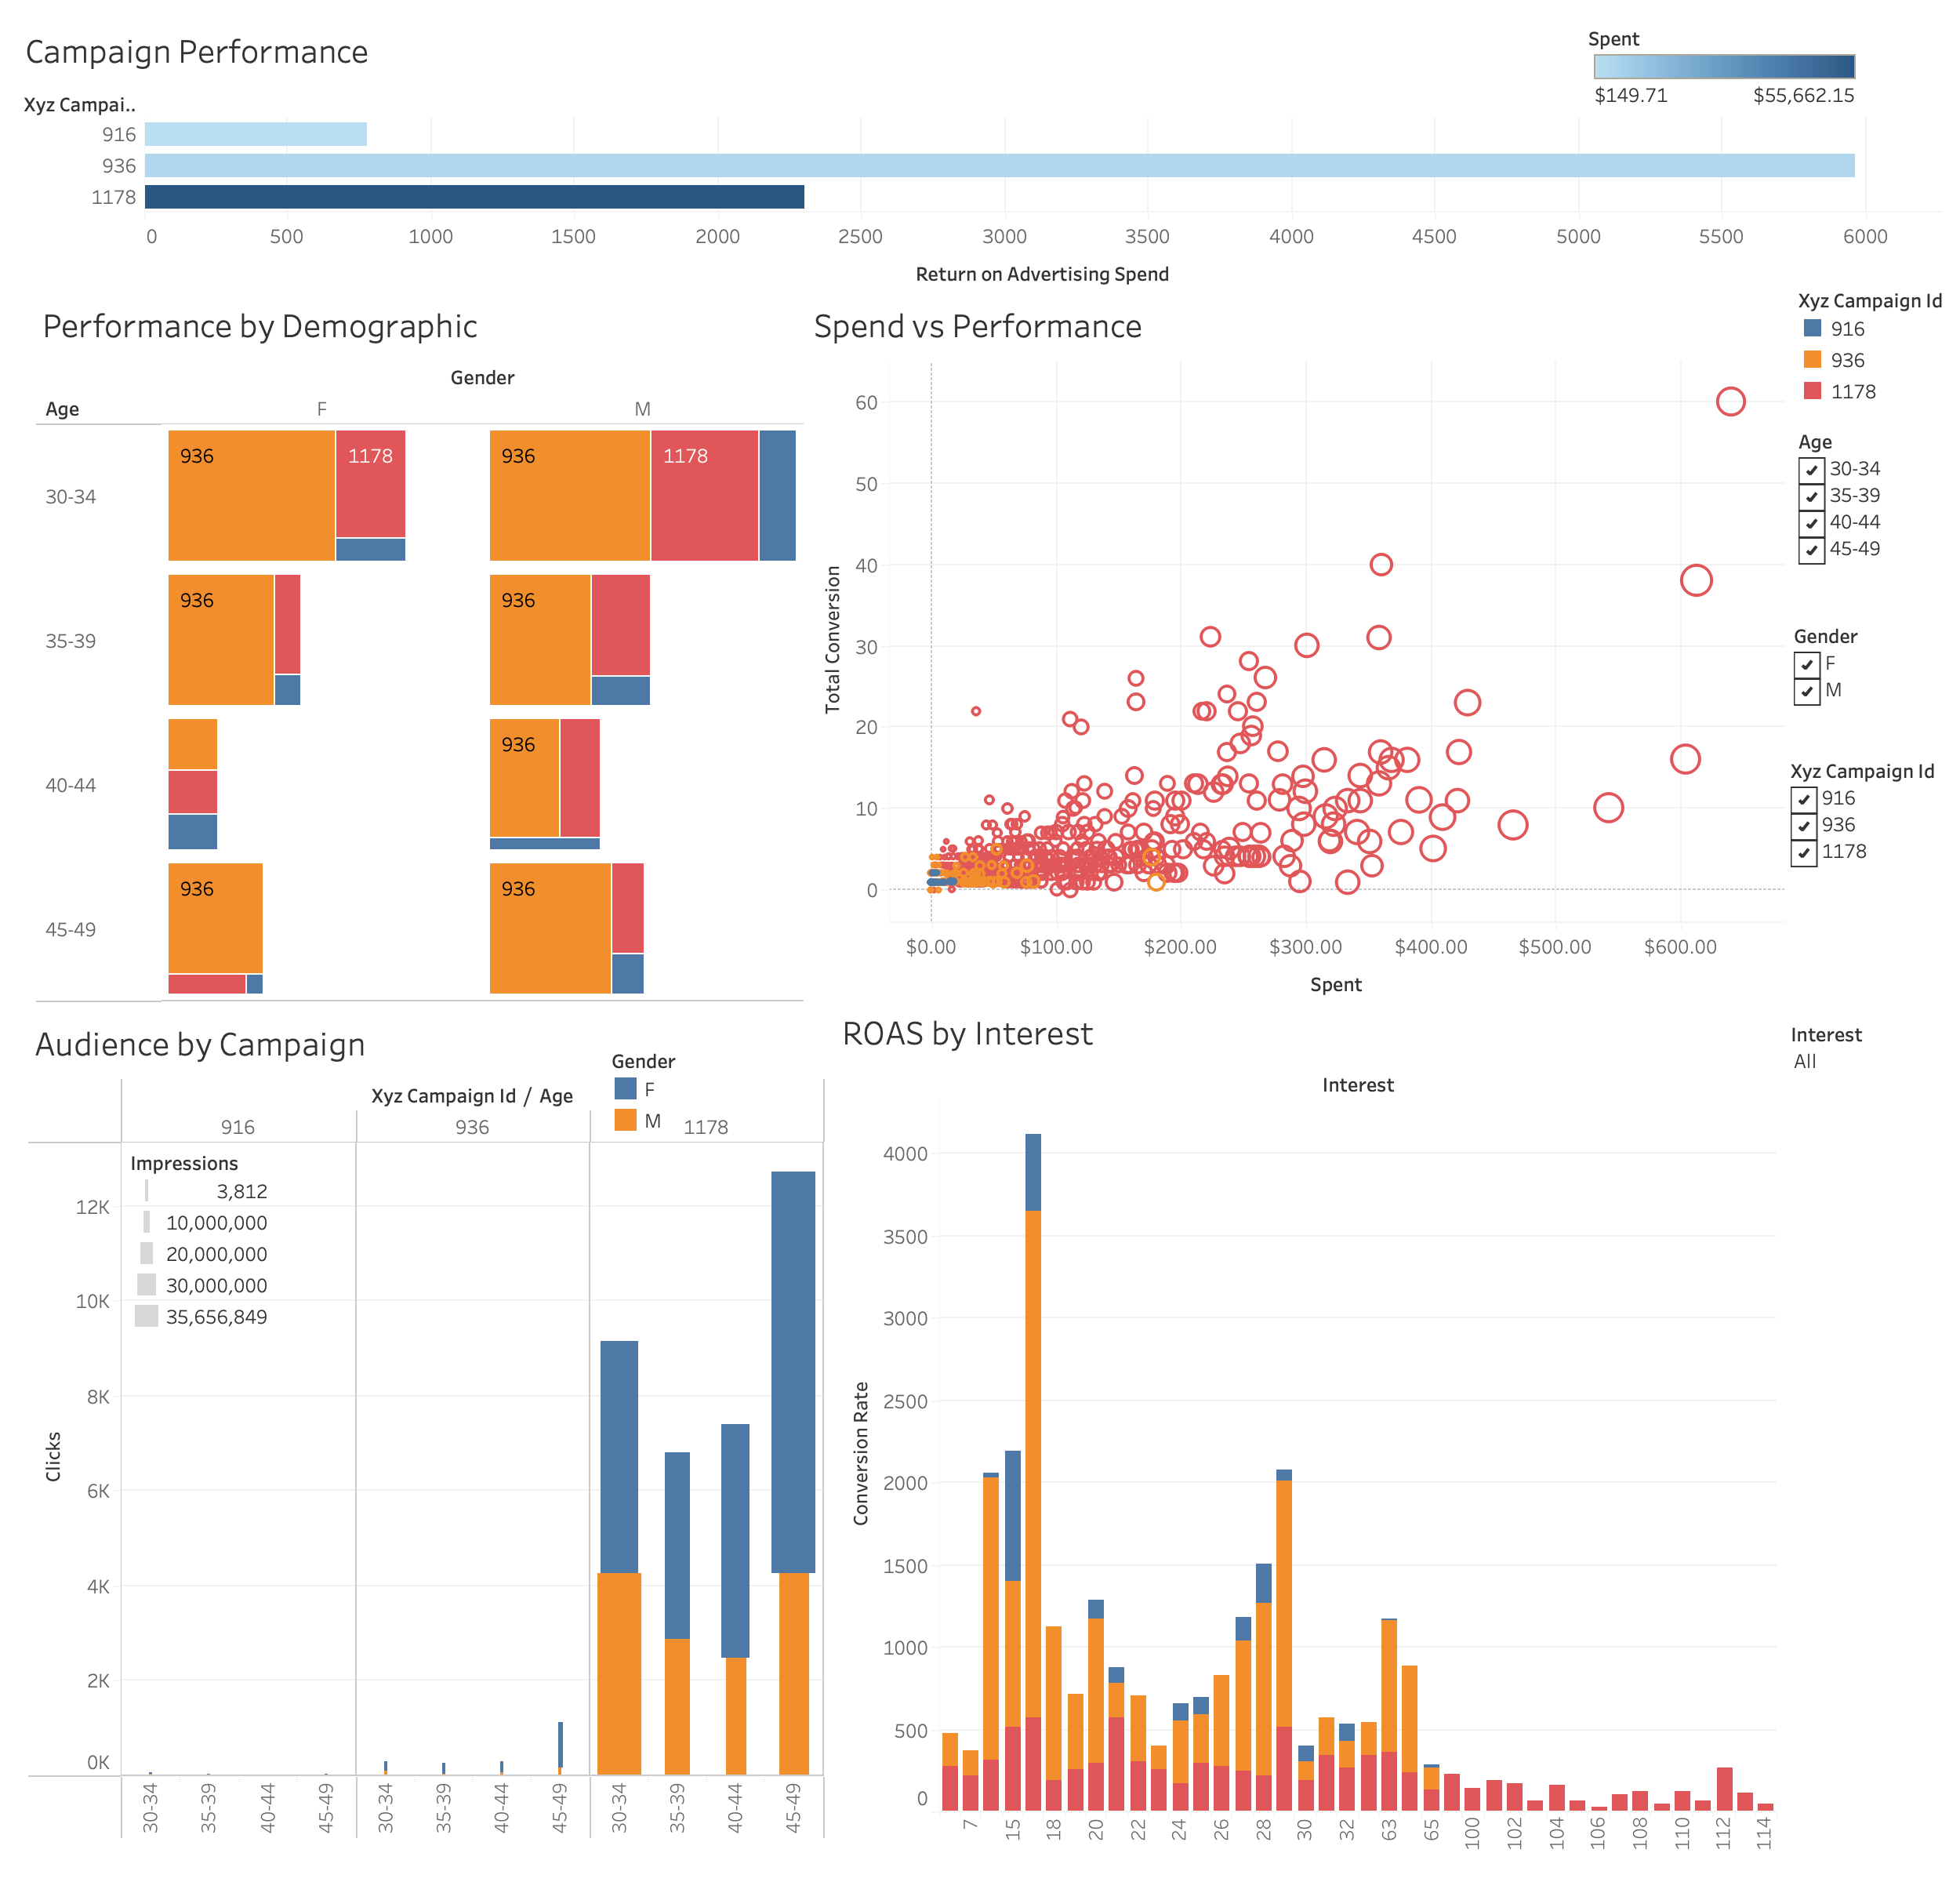

This screenshot's page, from the dashboard's own definition file:
{"tool":"tableau","page":{"name":"Dashboard 1","canvas":[1250,1200],"ordinal":0},"visuals":[{"type":"worksheet","title":"Campaign Performance","mark":"Automatic","rows":["xyz_campaign_id"],"cols":["Calculation_4170192520695582723"],"box":[8,8,1234,816.5]},{"type":"legend","title":"Campaign Performance","param":"[federated.0k6q4fm0iw6in516ul7w10zzzv95].[sum:Spent:qk]","box":[1012.5,12,175,114]},{"type":"legend","title":"Performance by Demographic","param":"[federated.0k6q4fm0iw6in516ul7w10zzzv95].[none:xyz_campaign_id:ok]","box":[1146,181,102,84]},{"type":"worksheet","title":"Performance by Demographic","mark":"Automatic","rows":["age"],"cols":["gender"],"box":[23,187,490,453]},{"type":"worksheet","title":"Spend vs Performance","mark":"Automatic","rows":["Total_Conversion"],"cols":["Spent"],"box":[515,187,623,456]},{"type":"filter","title":"Performance by Demographic","param":"[federated.0k6q4fm0iw6in516ul7w10zzzv95].[none:age:nk]","box":[1147,272,80,125]},{"type":"filter","title":"Performance by Demographic","param":"[federated.0k6q4fm0iw6in516ul7w10zzzv95].[none:gender:nk]","box":[1144,396,71,88]},{"type":"filter","title":"Performance by Demographic","param":"[federated.0k6q4fm0iw6in516ul7w10zzzv95].[none:xyz_campaign_id:ok]","box":[1142,482,103,111]},{"type":"worksheet","title":"ROAS by Interest","mark":"Automatic","rows":["Calculation_4170192520695148545"],"cols":["interest"],"box":[533,638,600,543]},{"type":"worksheet","title":"Audience by Campaign","mark":"Automatic","rows":["Clicks"],"cols":["xyz_campaign_id","age"],"box":[18,645,509,528]},{"type":"filter","title":"ROAS by Interest","param":"[federated.0k6q4fm0iw6in516ul7w10zzzv95].[none:interest:ok]","box":[1142,650,96,76]},{"type":"legend","title":"Audience by Campaign","param":"[federated.0k6q4fm0iw6in516ul7w10zzzv95].[none:gender:nk]","box":[389,666,42,58]},{"type":"legend","title":"Audience by Campaign","param":"[federated.0k6q4fm0iw6in516ul7w10zzzv95].[sum:Impressions:qk]","box":[82,731,126,177]}]}

Visuals, with their boxes in screenshot pixels (x1, y1, x2, y2), scaled from the page's 1250x1200 canvas onto the 1960x1882 screenshot:
"Campaign Performance" worksheet: 13,13,1947,1293
"Campaign Performance" legend: 1588,19,1862,198
"Performance by Demographic" legend: 1797,284,1957,416
"Performance by Demographic" worksheet: 36,293,804,1004
"Spend vs Performance" worksheet: 808,293,1784,1008
"Performance by Demographic" filter: 1798,427,1924,623
"Performance by Demographic" filter: 1794,621,1905,759
"Performance by Demographic" filter: 1791,756,1952,930
"ROAS by Interest" worksheet: 836,1001,1777,1852
"Audience by Campaign" worksheet: 28,1012,826,1840
"ROAS by Interest" filter: 1791,1019,1941,1139
"Audience by Campaign" legend: 610,1045,676,1135
"Audience by Campaign" legend: 129,1146,326,1424
